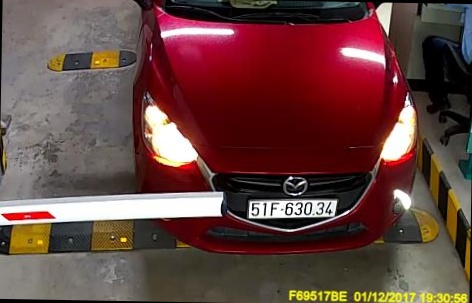plate: (239, 194, 341, 228)
